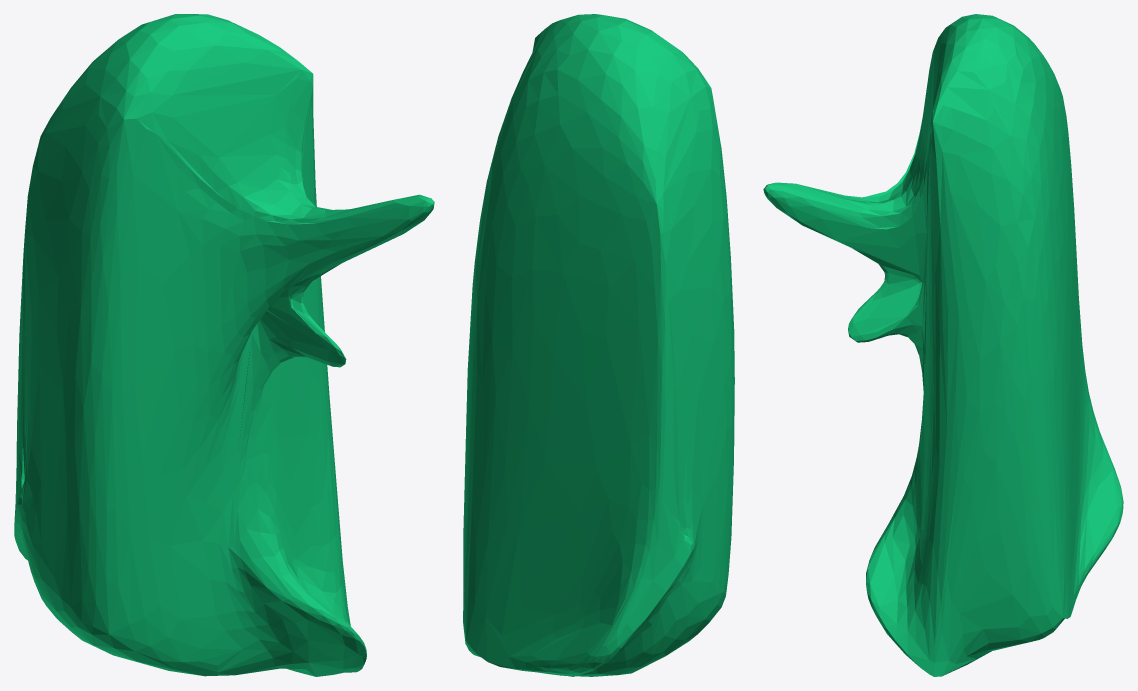
3 views of the same model, side by side, from view 1: azimuth 30°, elevation 25°; view 2: azimuth 150°, elevation 25°; view 3: azimuth 270°, elevation 25° (orthographic). The views are drawn at different scales.
Parts seen in each view (by area): view 1: 060_Cube.246; view 2: 060_Cube.246; view 3: 060_Cube.246.
Part boxes in pixels (x1=…): 060_Cube.246: x1=14, y1=14, x2=434, y2=676; 060_Cube.246: x1=463, y1=14, x2=734, y2=676; 060_Cube.246: x1=763, y1=14, x2=1123, y2=676.
Size of the model in its own units: 4.97 by 11.77 by 6.48.
